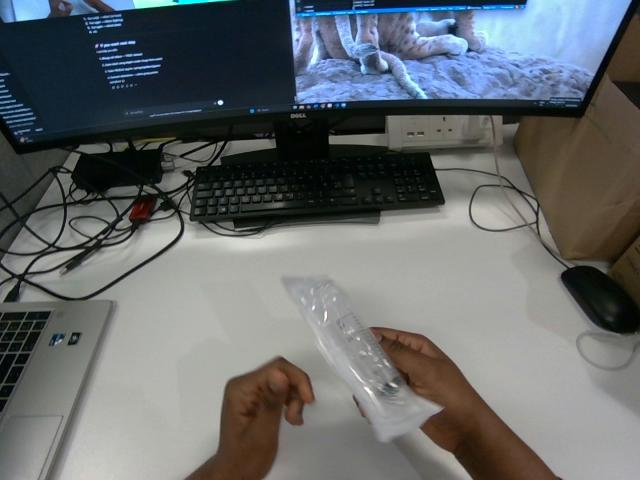syringe: (283, 277, 441, 441)
